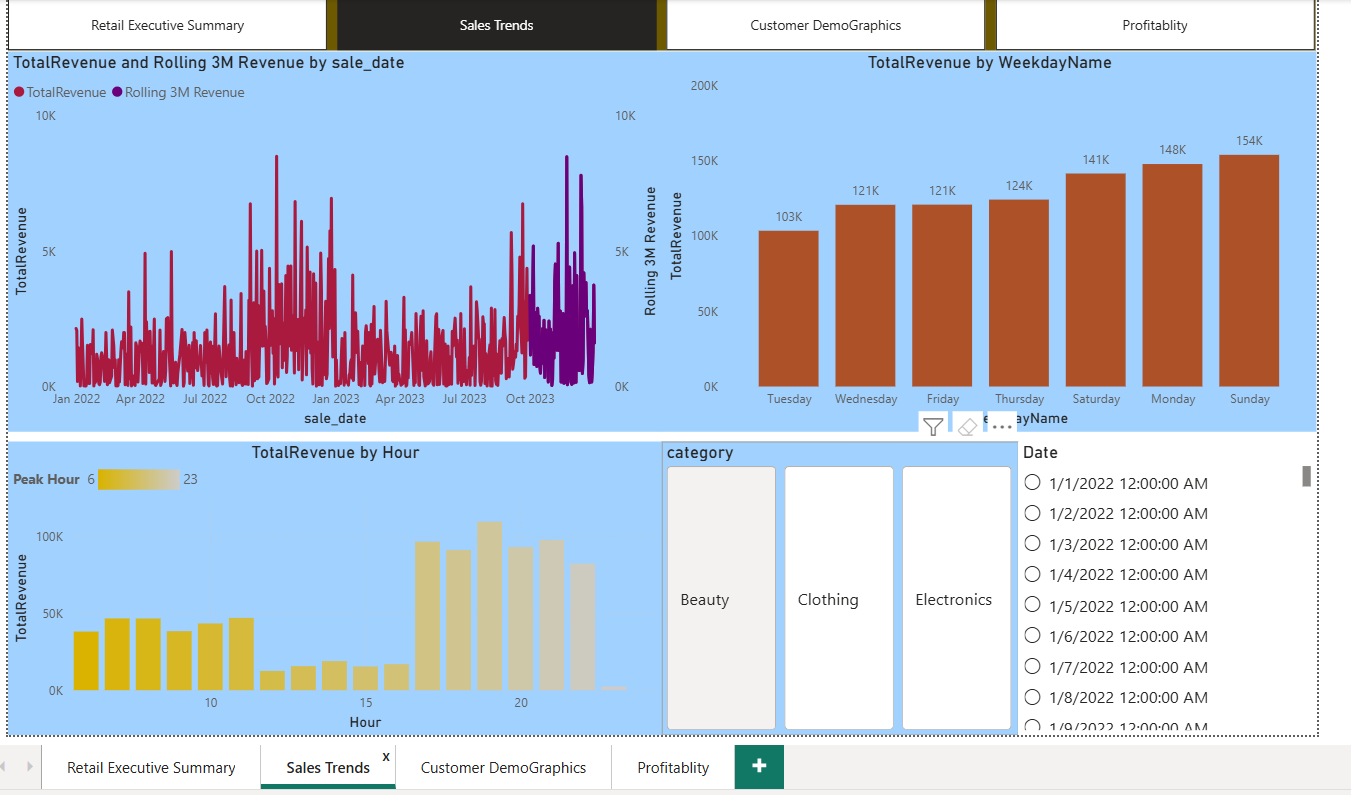

Layout of this report page (visuals, bound fields, positions):
{"tool":"powerbi","page":{"name":"Sales Trends","canvas":[1280,720],"ordinal":1},"visuals":[{"type":"lineChart","fields":{"Category":["Retail sales.sale_date"],"Y":["Measure.TotalRevenue"],"Y2":["Measure.Rolling 3M Revenue"]},"box":[0,51.4,640.8,371.7],"z":0},{"type":"columnChart","fields":{"Category":["DimDate.WeekdayName"],"Y":["Measure.TotalRevenue"]},"box":[640.8,51.4,639.5,371.7],"z":1000},{"type":"columnChart","fields":{"Y":["Measure.TotalRevenue"],"Category":["Retail sales.Hour"]},"box":[0,433,641,287],"z":2000},{"type":"advancedSlicerVisual","fields":{"Values":["Retail sales.category"]},"box":[639.5,432.9,348.5,287.4],"z":3000},{"type":"listSlicer","fields":{"Values":["DimDate.Date"]},"box":[988,432.9,291,287.4],"z":4000},{"type":"pageNavigator","box":[0,0,1279.1,50.1],"z":5001}]}

Visuals, with their boxes on the page's 1280x720 design canvas (x1, y1, x2, y2). These are canvas units, not pixel positions in the 1351x795 screenshot, which may show the page scaled, cropped or inside an application window:
lineChart - Retail sales.sale_date x Measure.TotalRevenue: (0, 51, 641, 423)
columnChart - DimDate.WeekdayName x Measure.TotalRevenue: (641, 51, 1280, 423)
columnChart - Measure.TotalRevenue x Retail sales.Hour: (0, 433, 641, 720)
advancedSlicerVisual - Retail sales.category: (640, 433, 988, 720)
listSlicer - DimDate.Date: (988, 433, 1279, 720)
pageNavigator: (0, 0, 1279, 50)
